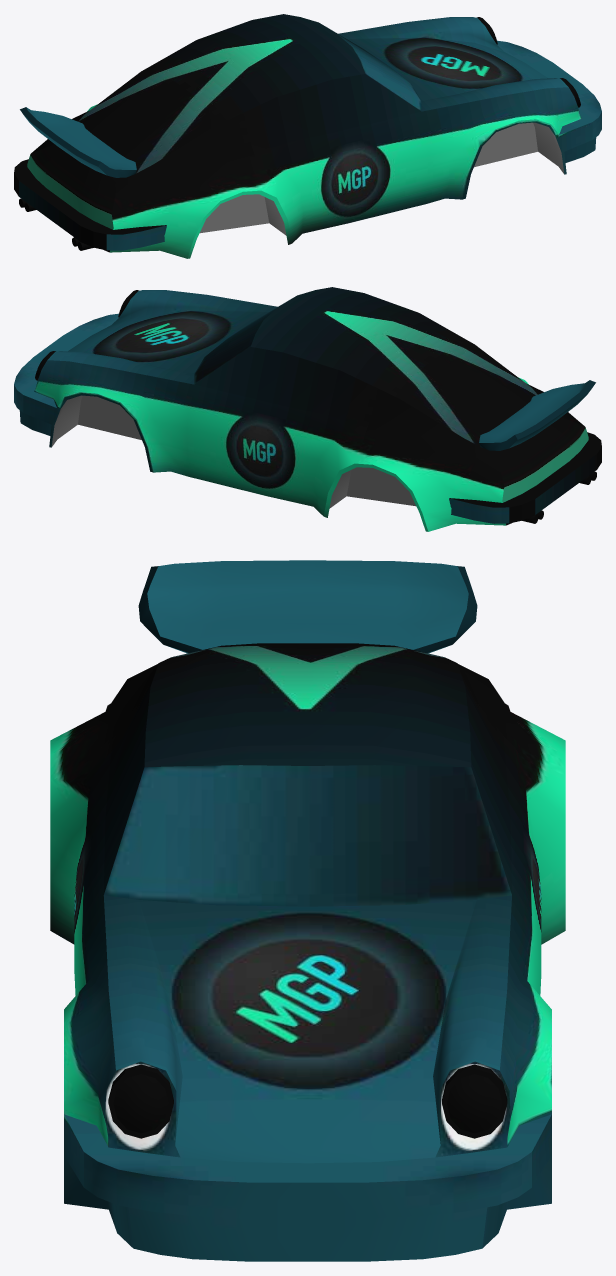
The model's file is mgp_porsche_01.glb.
3 renders of one model, top to bottom at view 1: azimuth 30°, elevation 25°; view 2: azimuth 150°, elevation 25°; view 3: azimuth 270°, elevation 25°, orthographic. The views are drawn at different scales.
Visible parts, largest first — view 1: Porsche_911; view 2: Porsche_911; view 3: Porsche_911.
Part boxes in pixels (x1,y1,x2,y2): Porsche_911: (14,14,601,258); Porsche_911: (14,287,601,531); Porsche_911: (50,560,565,1261).
Bounding box in the file's own units: 4.15 × 1.09 × 1.79.
Materials: 1 (1 with a texture image).
